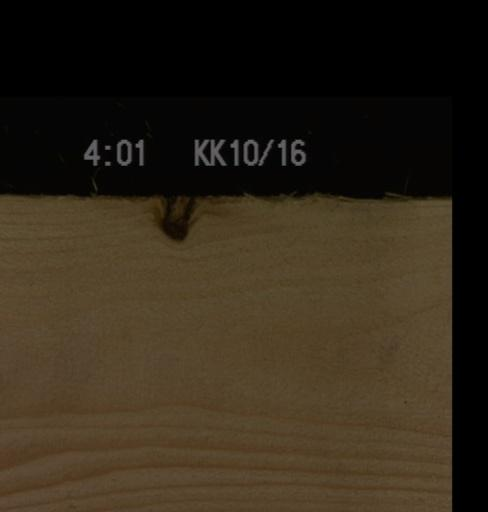edge_knot: (147, 194, 200, 240)
